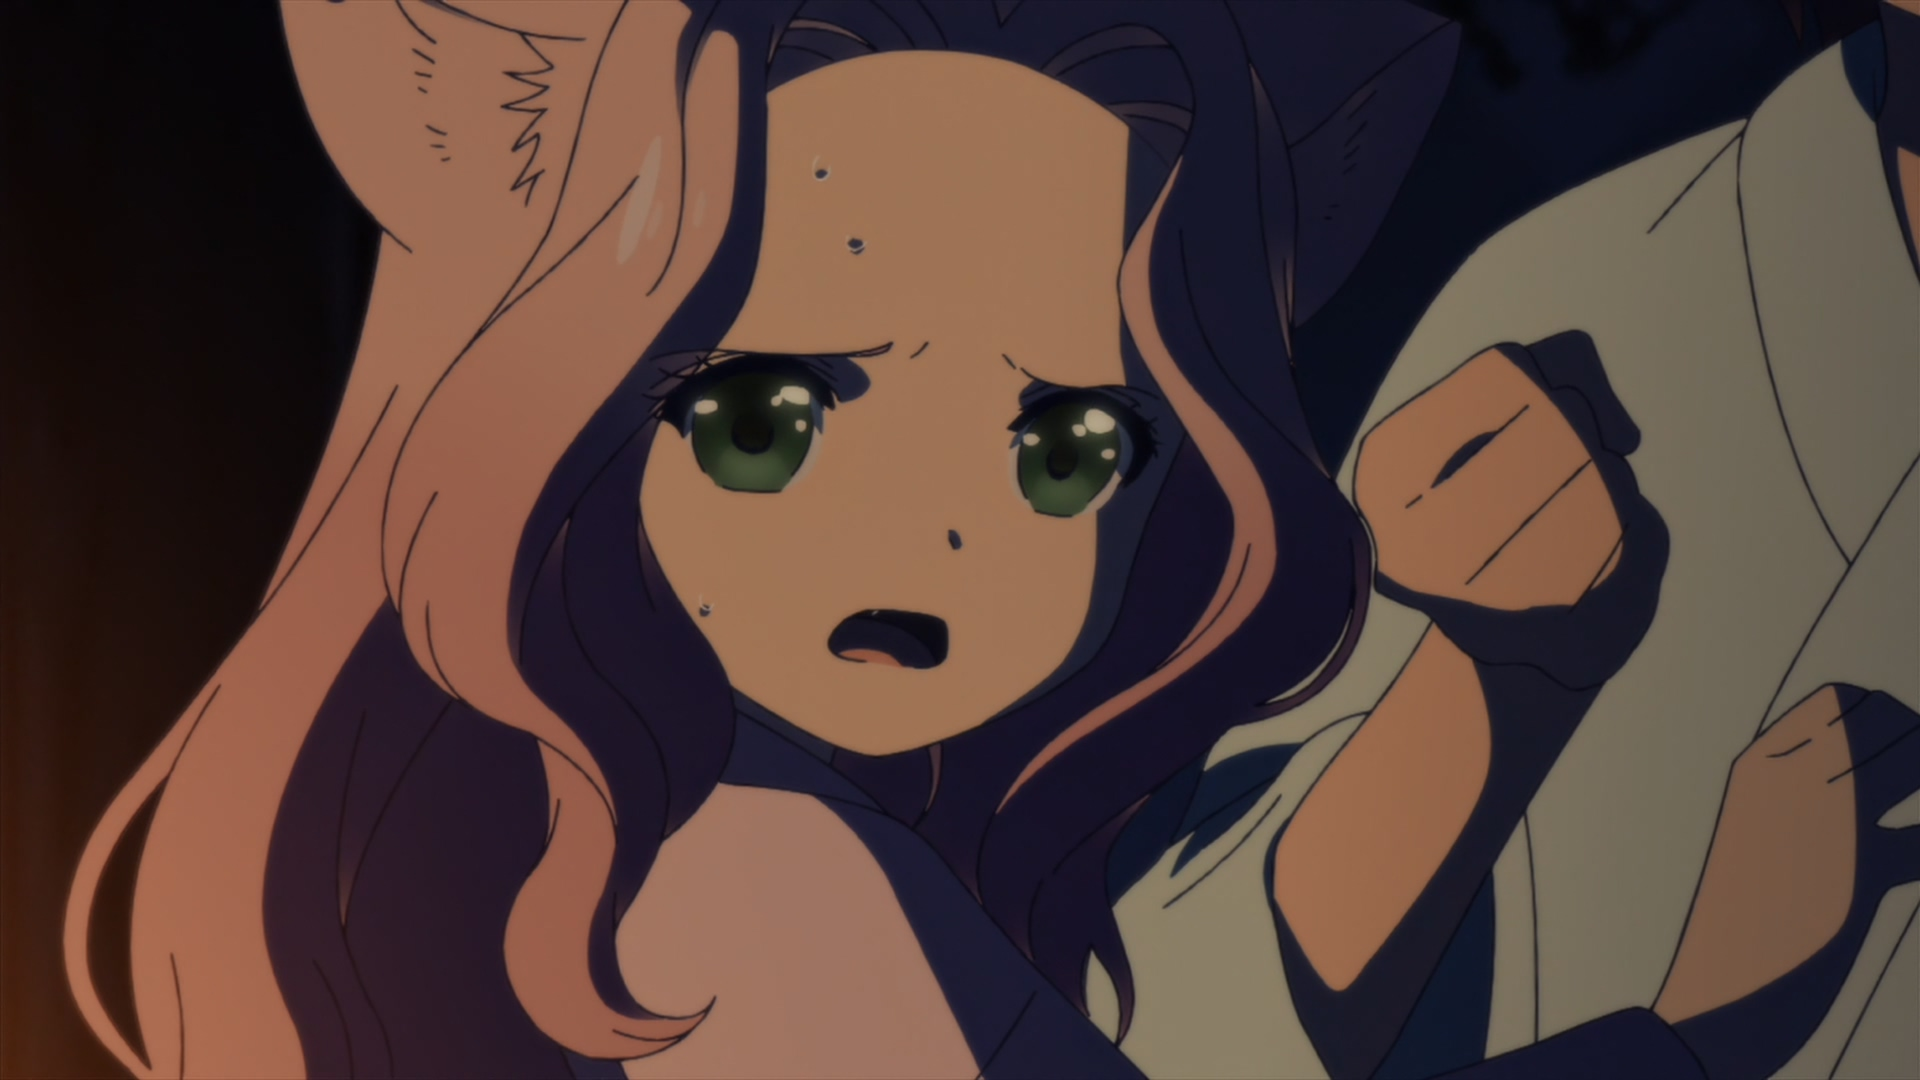其他: (1087, 1, 1920, 1080)
莲: (50, 1, 1366, 1079)
